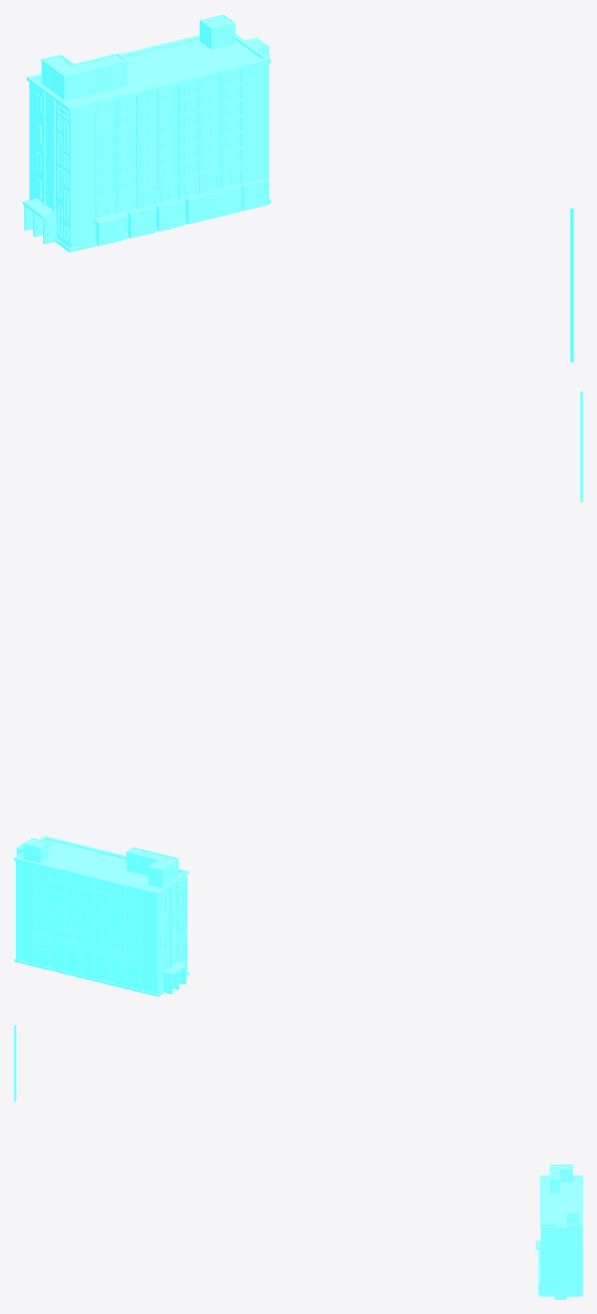
3 views of the same model, one above another, from view 1: azimuth 30°, elevation 25°; view 2: azimuth 150°, elevation 25°; view 3: azimuth 270°, elevation 25° (orthographic). The views are drawn at different scales.
Parts seen in each view (by area): view 1: 外框; view 2: 外框; view 3: 外框.
Boxes of the visible parts, x1,y1,x2,y2 form: 外框: (22, 14, 574, 362); 外框: (14, 391, 582, 996); 外框: (14, 1025, 582, 1299).
Size of the model in its own units: 62.41 by 109 by 259.
